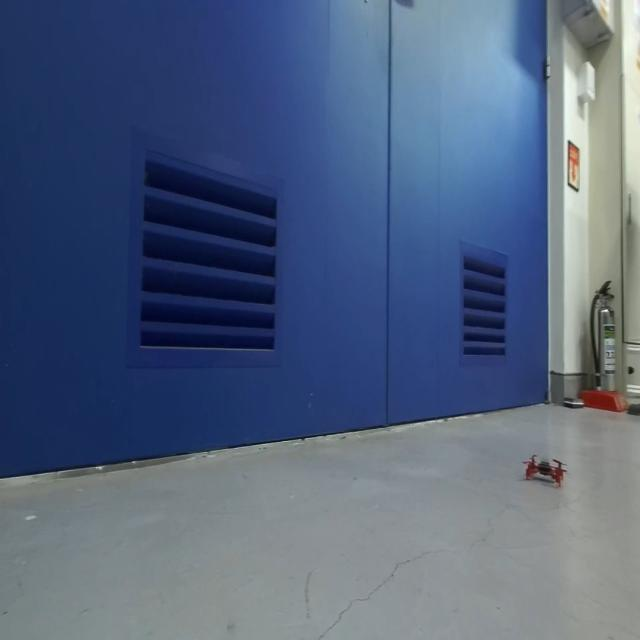crazyflie: (520, 447, 569, 491)
